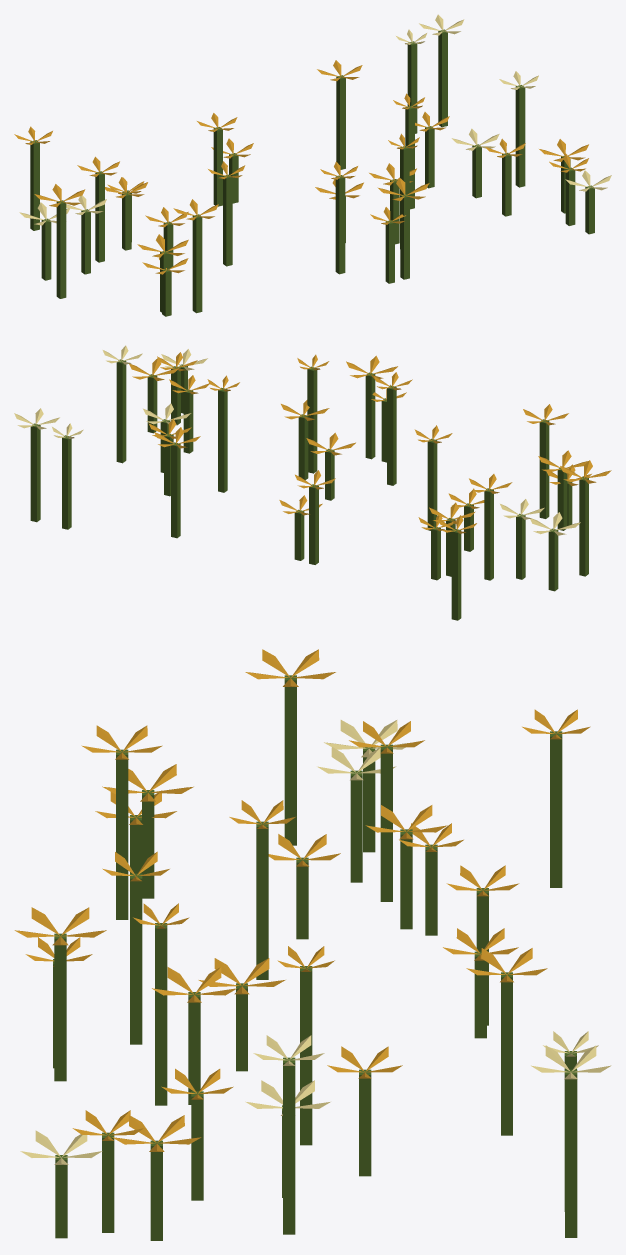
File: summer-wildflowers.obj
The picture shows the model from 3 angles, top to bottom: view 1: azimuth 30°, elevation 25°; view 2: azimuth 150°, elevation 25°; view 3: azimuth 270°, elevation 25°; orthographic projection. The views are drawn at different scales.
Bounding box in the file's own units: 2.33 × 0.4774 × 1.37.
